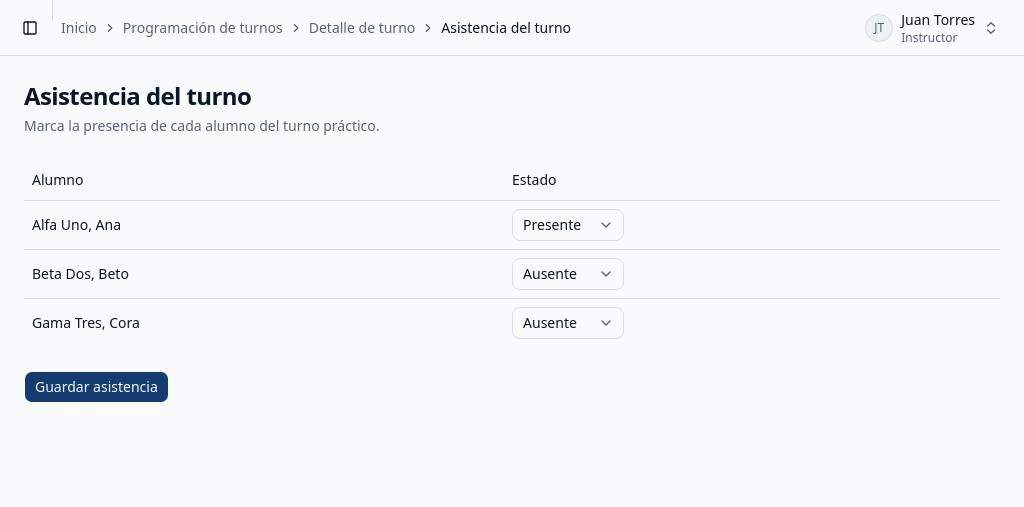
Test: AsistenciaRegistroPage (/turnos/:id/asistencia) › lista los alumnos del turno, permite marcar y guarda
Expected: the text "Alfa Uno, Ana" is shown, [24, 200, 504, 249]
Expected: the text "Beta Dos, Beto" is shown, [24, 249, 504, 298]
Select "Presente" in the dropdown named "Estado de Beta Dos, Beto" at [568, 274], box [512, 258, 624, 290]
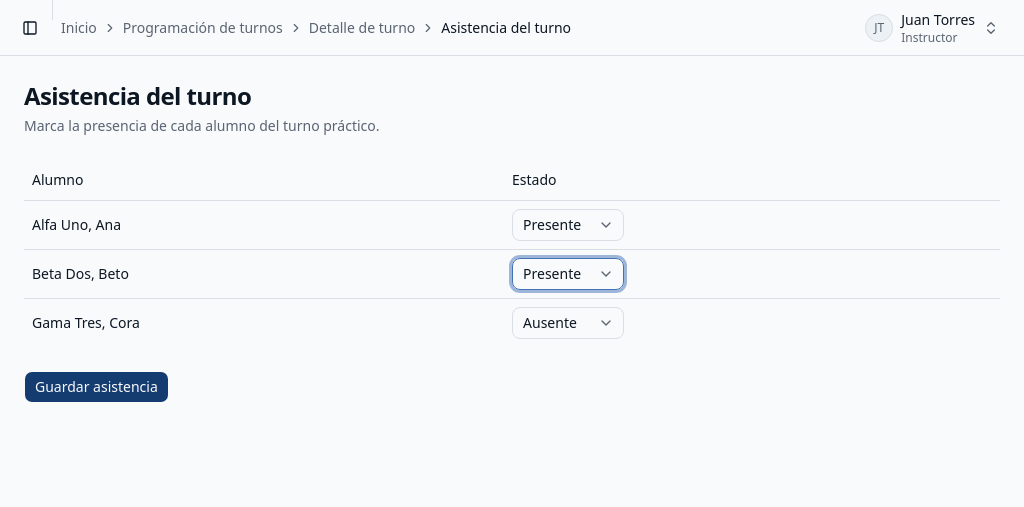
Click the button "Guardar asistencia" at [96, 386], box [24, 370, 169, 402]
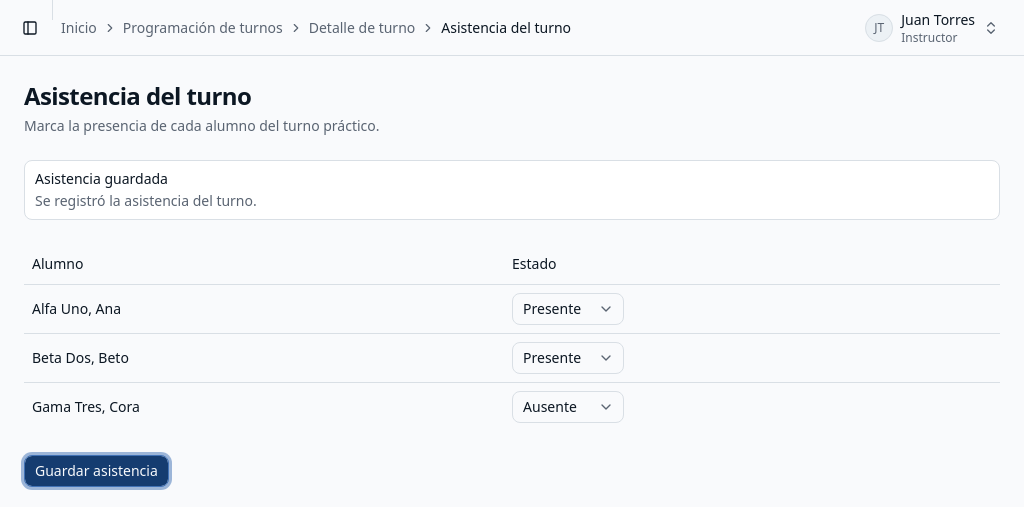
Expected: the text "Asistencia guardada" is shown, [35, 169, 168, 188]
